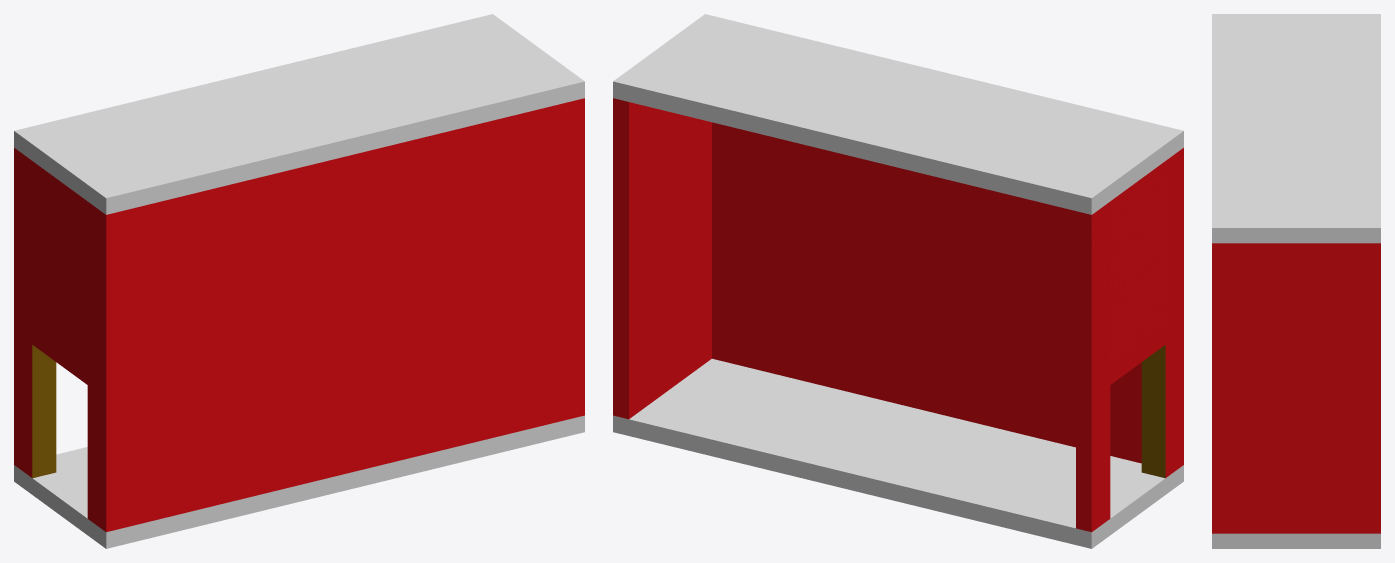
Rendered from Stairs_06_01.fbx.
The picture shows the model from 3 angles, left to right: view 1: azimuth 30°, elevation 25°; view 2: azimuth 150°, elevation 25°; view 3: azimuth 270°, elevation 25°; orthographic projection. The views are drawn at different scales.
Parts seen in each view (by area): view 1: Stairs_06_01; view 2: Stairs_06_01; view 3: Stairs_06_01.
Part boxes in pixels (bbox=[...]): Stairs_06_01: bbox=[14, 14, 584, 548]; Stairs_06_01: bbox=[613, 14, 1183, 548]; Stairs_06_01: bbox=[1212, 14, 1380, 548].
Bounding box in the file's own units: 300 × 210 × 100.
